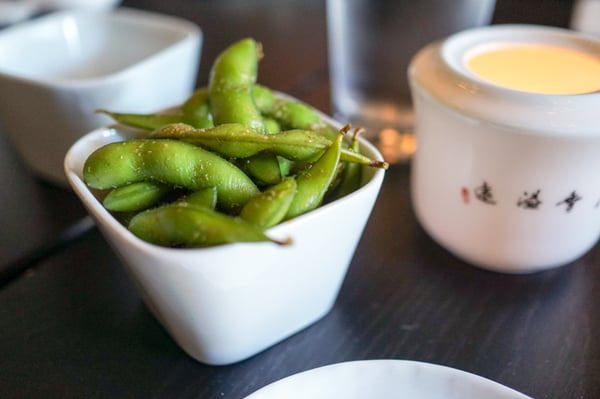pizza: (407, 23, 600, 275)
sushi: (62, 52, 389, 365), (0, 3, 204, 193)
